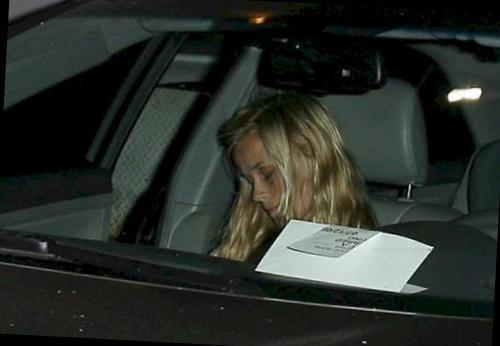Drunk: (230, 138, 293, 225)
